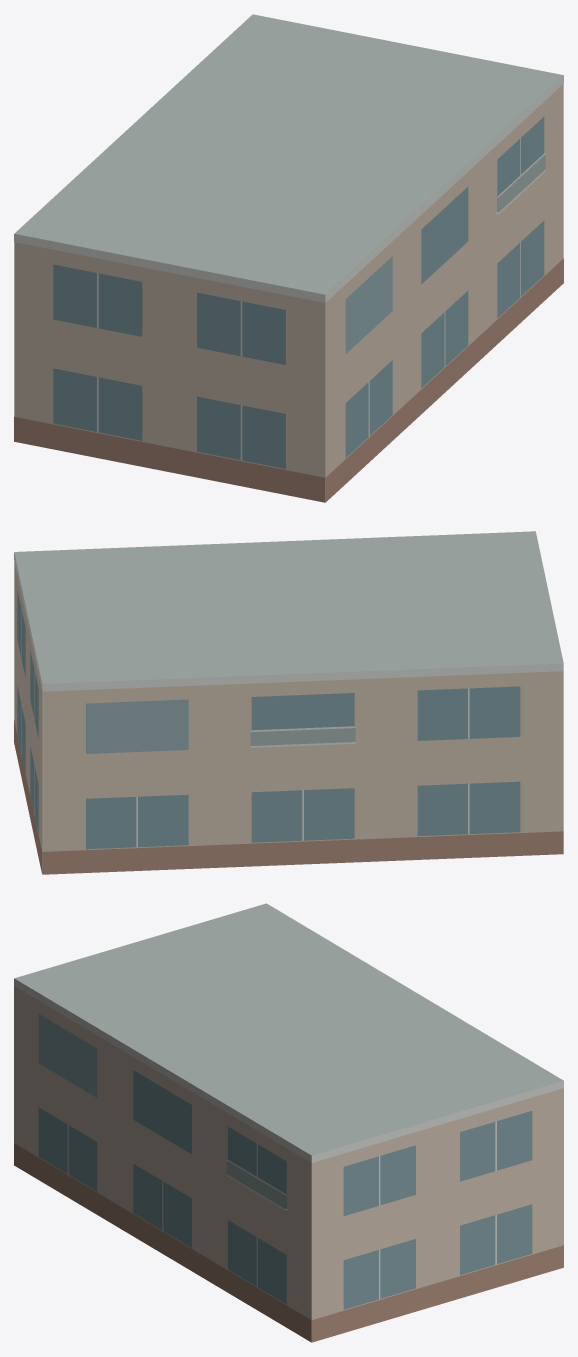
Rendered from survey-upis-32721283.glb.
3 views of the same model, one above another, from view 1: azimuth 30°, elevation 25°; view 2: azimuth 150°, elevation 25°; view 3: azimuth 270°, elevation 25° (orthographic). The views are drawn at different scales.
Parts seen in each view (by area): view 1: survey-upis-32721283.tmp; view 2: survey-upis-32721283.tmp; view 3: survey-upis-32721283.tmp.
Boxes of the visible parts, x1,y1,x2,y2 form: survey-upis-32721283.tmp: (14,14,563,502); survey-upis-32721283.tmp: (14,531,563,874); survey-upis-32721283.tmp: (14,903,563,1342).
Bounding box in the file's own units: 17.66 × 6.1 × 16.26.
